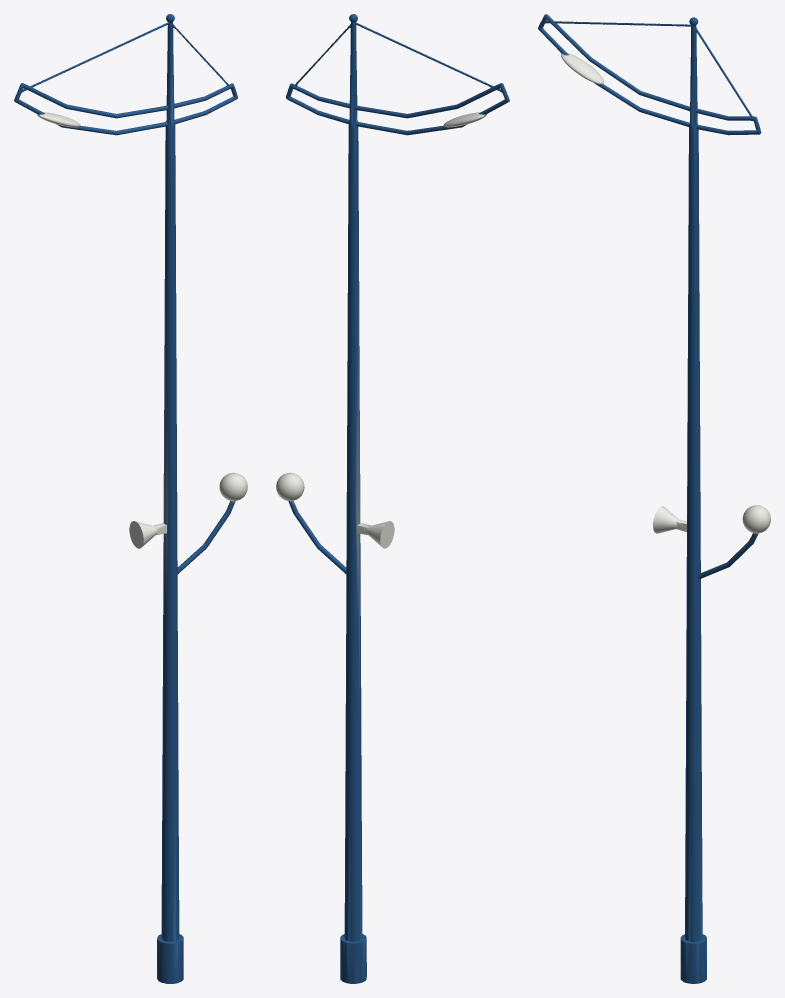
The model's file is den_cot_xanh_hai_tay.glb.
3 renders of one model, left to right at view 1: azimuth 30°, elevation 25°; view 2: azimuth 150°, elevation 25°; view 3: azimuth 330°, elevation 25°, orthographic.
Parts seen in each view (by area): view 1: den_cong_vien; view 2: den_cong_vien; view 3: den_cong_vien.
Part boxes in pixels (<box>): den_cong_vien: <box>14,14,247,983</box>; den_cong_vien: <box>276,14,509,983</box>; den_cong_vien: <box>538,14,770,983</box>.
Bounding box in the file's own units: 3 × 11.95 × 0.32.
